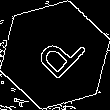P_SW: (24, 24, 86, 86)
